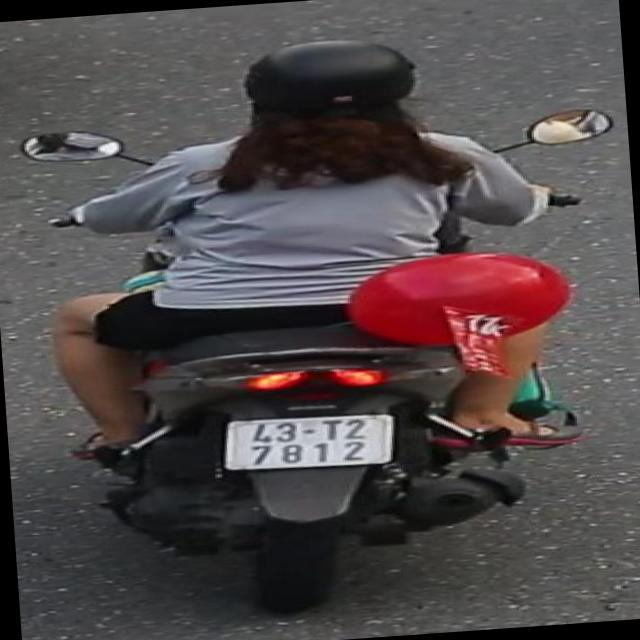LP: (210, 403, 406, 478)
helmet: (231, 31, 450, 173)
